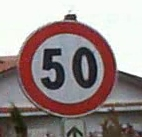limite 50: (17, 18, 116, 116)
